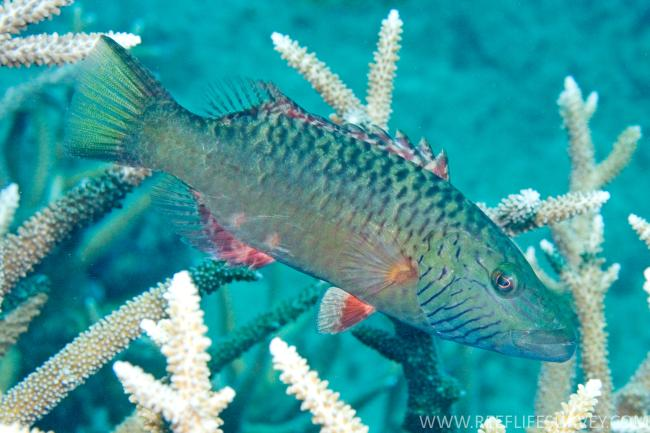fish: (63, 34, 576, 365)
